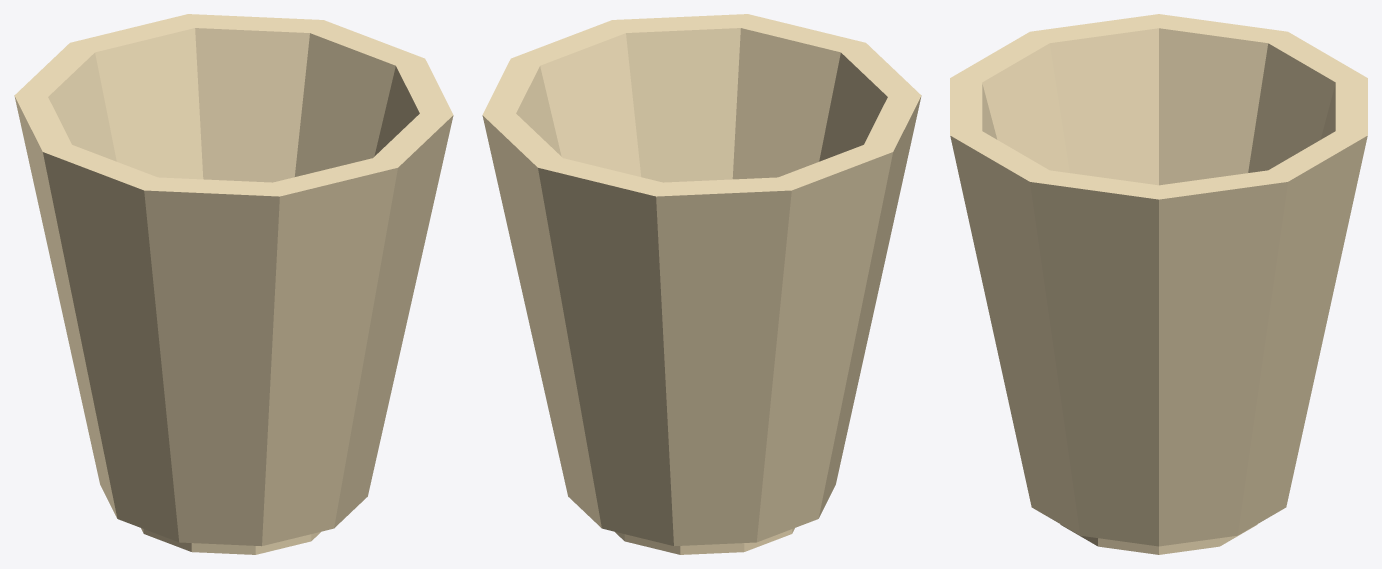
Rendered from Bucket.fbx.
3 renders of one model, left to right at view 1: azimuth 30°, elevation 25°; view 2: azimuth 150°, elevation 25°; view 3: azimuth 270°, elevation 25°, orthographic.
Parts seen in each view (by area): view 1: pCylinder3; view 2: pCylinder3; view 3: pCylinder3.
Boxes of the visible parts, x1=… form: pCylinder3: x1=14, y1=14, x2=453, y2=554; pCylinder3: x1=482, y1=14, x2=921, y2=554; pCylinder3: x1=950, y1=14, x2=1367, y2=554.
Bounding box in the file's own units: 0.3404 × 0.3459 × 0.3237.
